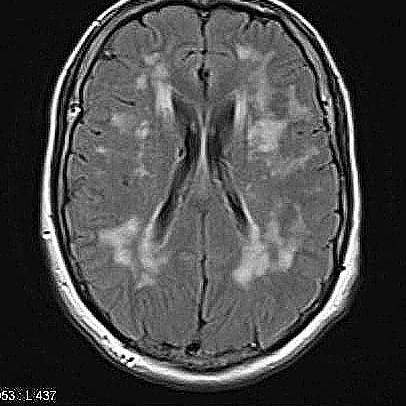Normal_Brain: (6, 1, 380, 403)
